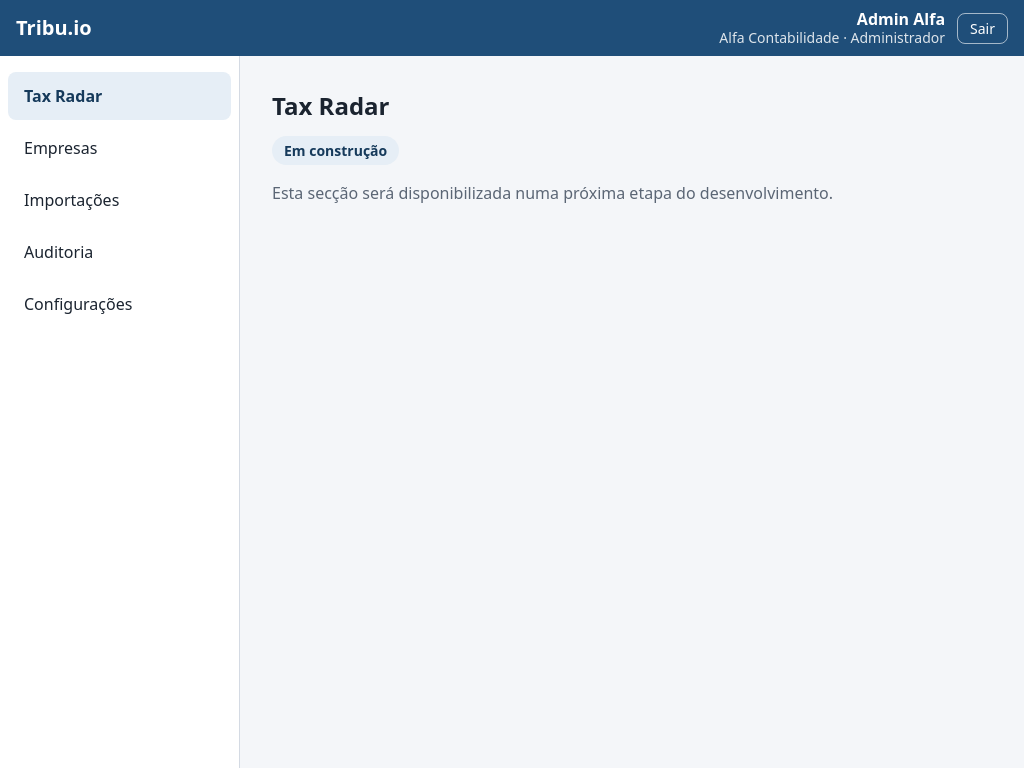
layout autenticado › navega entre secções e atualiza o título do separador
Check: the heading "Tax Radar" is shown, box [272,89,390,122]
Click the link "Empresas" at (61, 148), box [24,137,97,159]
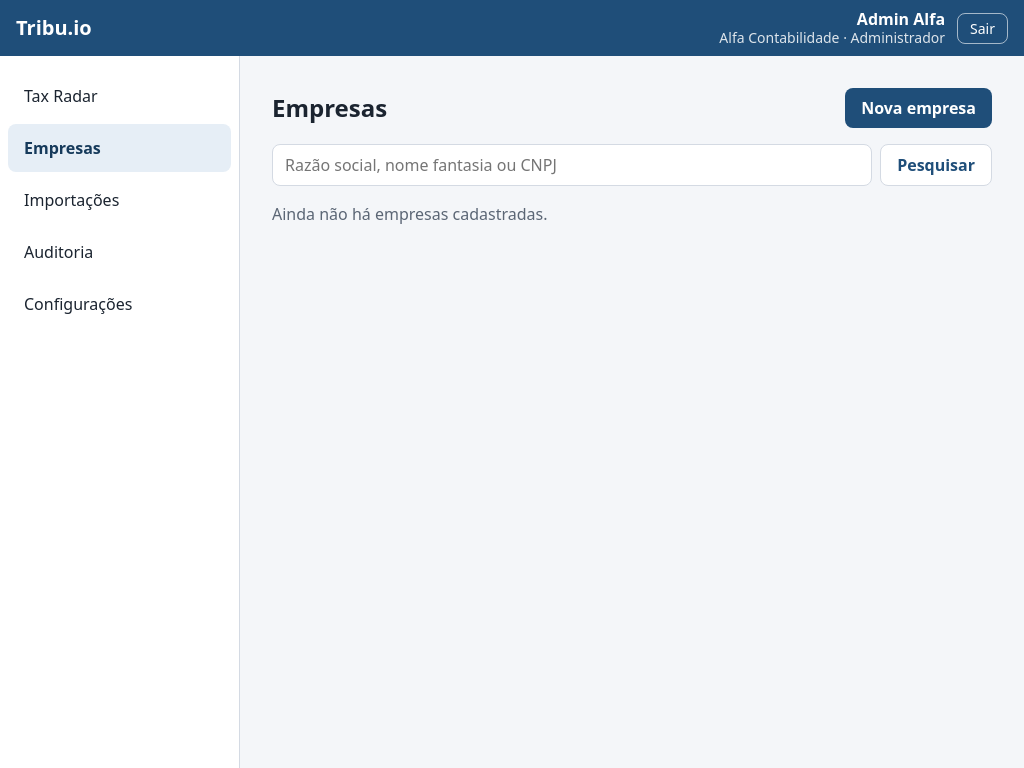
Check: the heading "Empresas" is shown, box [272,90,387,126]
